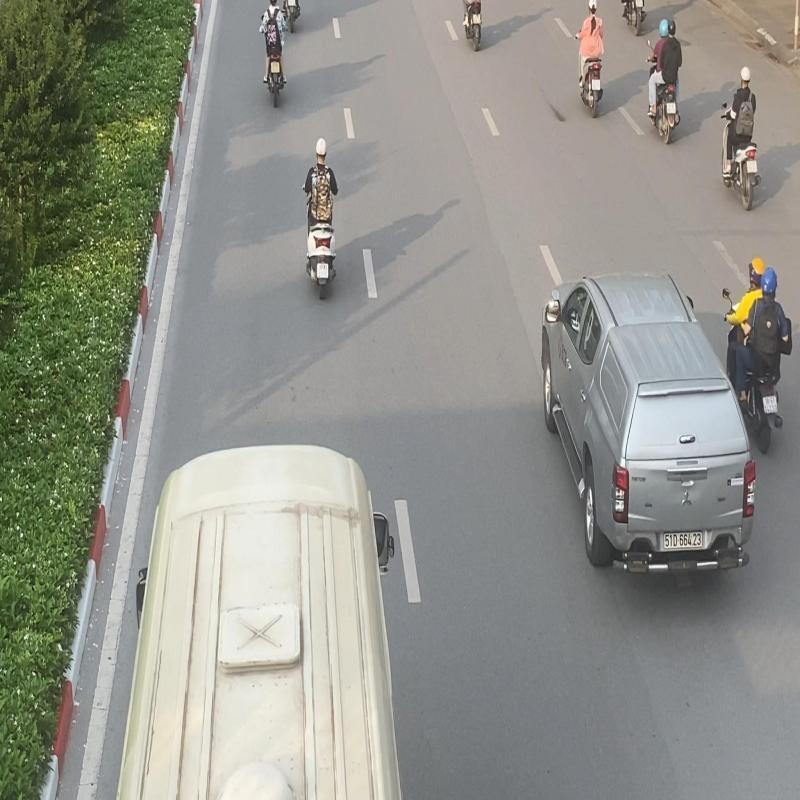helmet: (760, 266, 778, 299), (748, 257, 765, 287), (316, 138, 328, 159), (740, 66, 752, 86), (658, 19, 669, 38), (667, 17, 676, 37)
licenseplate: (762, 395, 778, 415), (316, 263, 328, 279), (747, 160, 758, 173), (666, 101, 676, 114)
motorcyclist: (722, 255, 794, 454), (720, 65, 764, 213), (301, 136, 340, 302), (644, 16, 682, 145)
